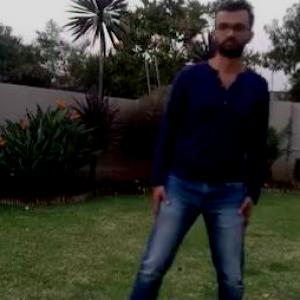follow: (157, 0, 272, 298)
